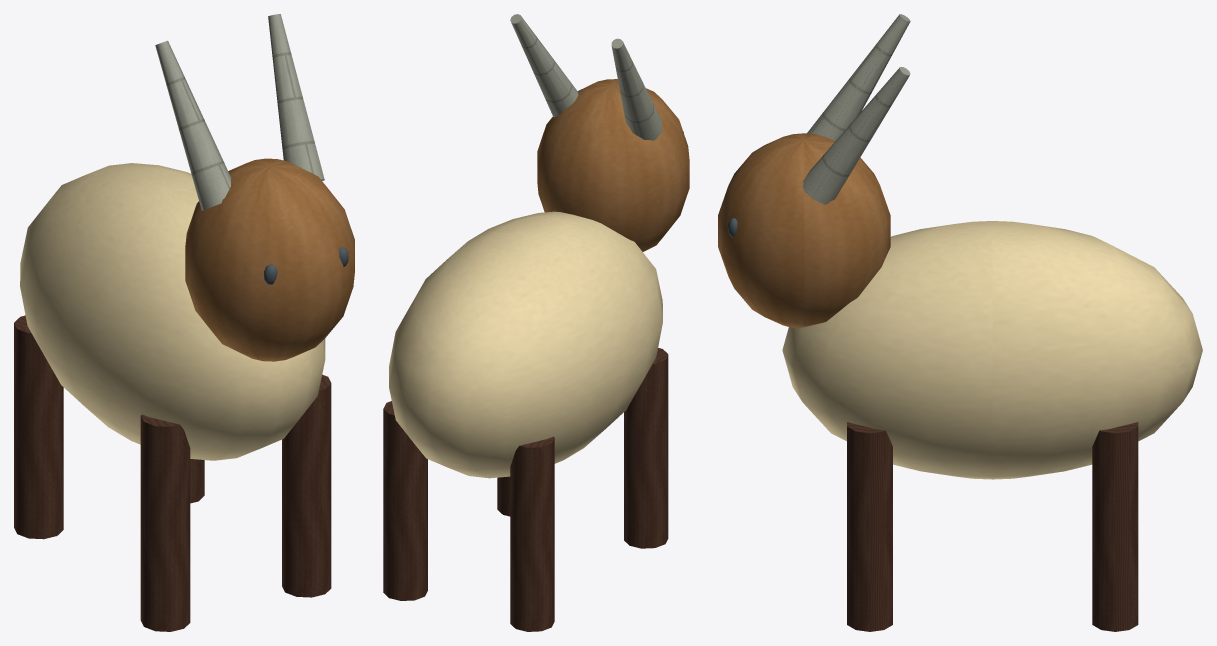
File: goat.glb
3 views of the same model, side by side, from view 1: azimuth 30°, elevation 25°; view 2: azimuth 150°, elevation 25°; view 3: azimuth 270°, elevation 25° (orthographic). The views are drawn at different scales.
Parts seen in each view (by area): view 1: goat; view 2: goat; view 3: goat.
Part boxes in pixels (x1,y1,x2,y2): goat: (14,14,354,631); goat: (383,14,689,631); goat: (718,14,1202,631).
Bounding box in the file's own units: 0.56 × 1.38 × 1.11.
5 materials, 5 textured.
